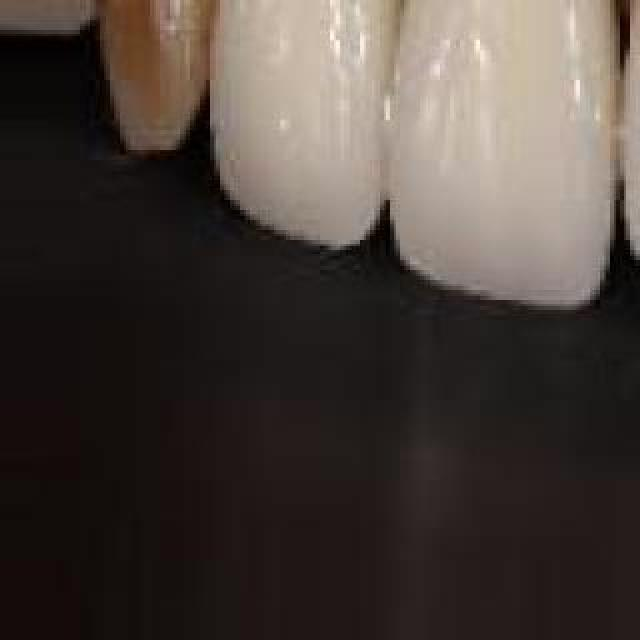stains: (64, 0, 248, 146)
